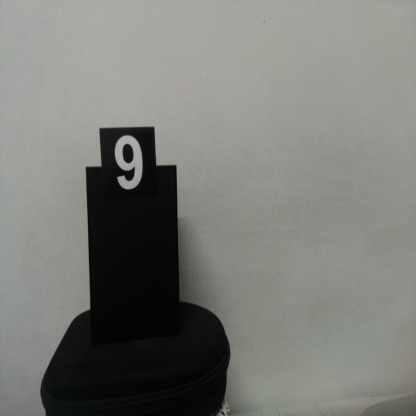id_9: (99, 128, 156, 212)
